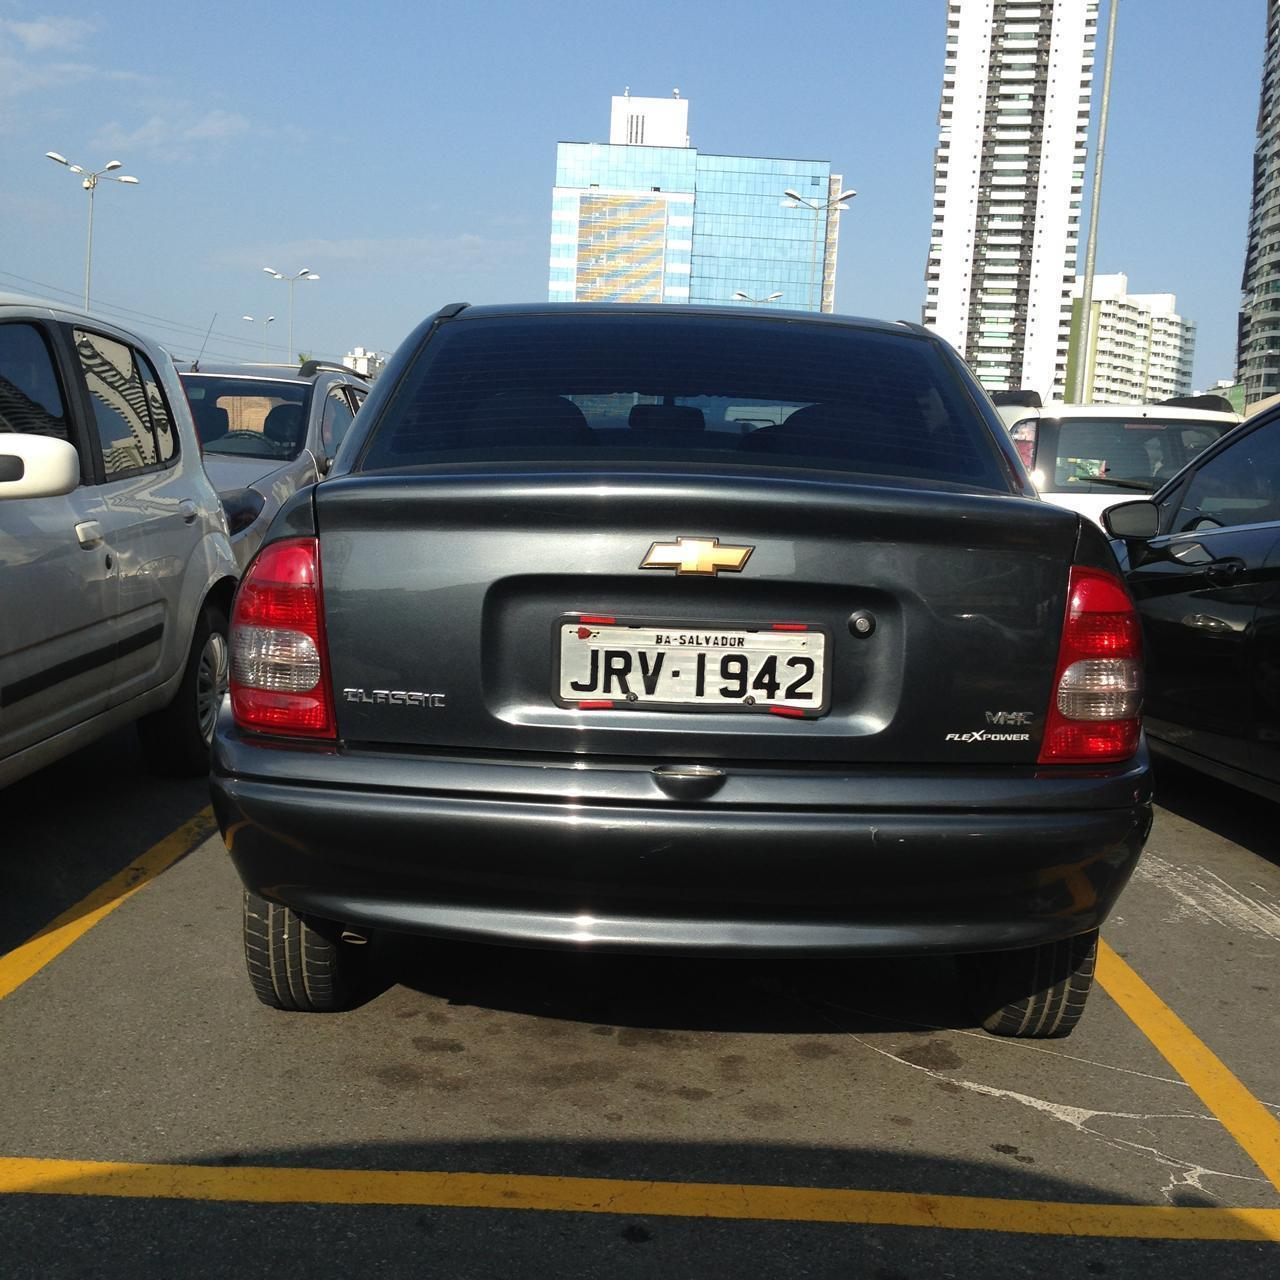placa de veiculo: (546, 598, 850, 725)
